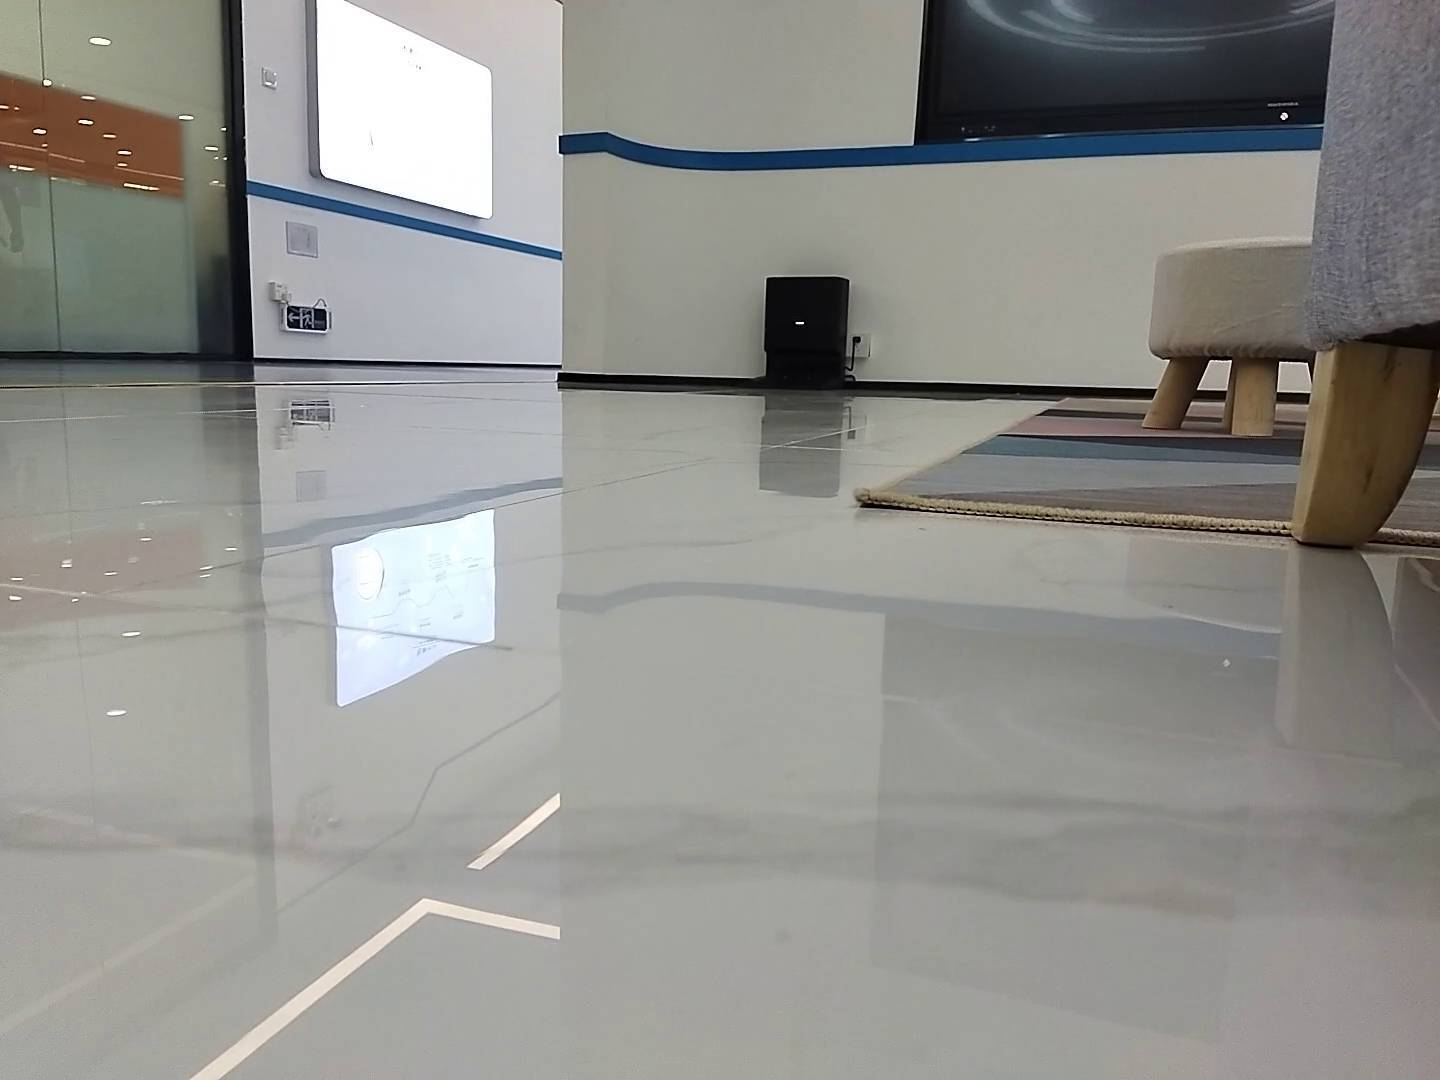dust collecting barrel: (726, 275, 852, 389)
